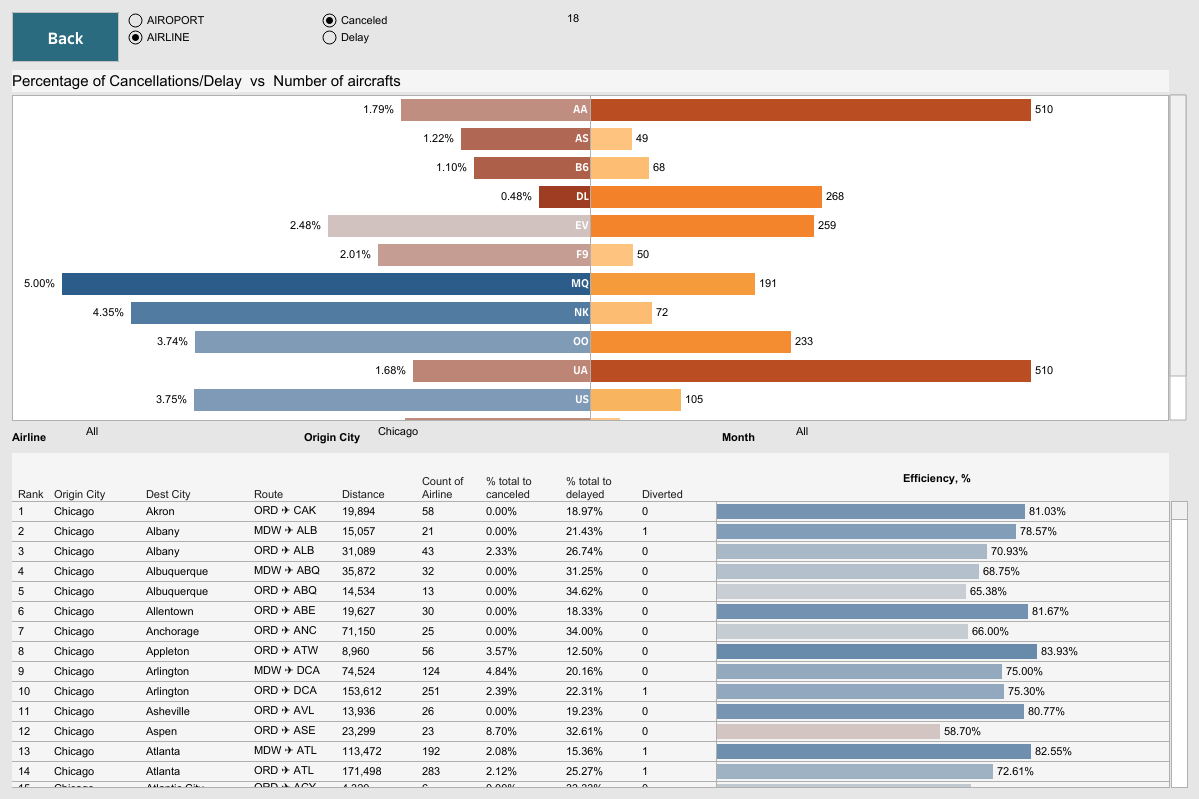

The page's visual inventory and layout, read from the dashboard file:
{"tool":"tableau","page":{"name":"Detail","canvas":[1200,800],"ordinal":0},"visuals":[{"type":"dashboard-object","box":[8,8,115,58]},{"type":"parameter","param":"[Parameters].[Parameter 2]","box":[123,8,194,58]},{"type":"parameter","param":"[Parameters].[Parameter 3]","box":[317,8,244,58]},{"type":"parameter","param":"[Parameters].[Parameter 4]","box":[561,8,235,58]},{"type":"blank","box":[796,8,396,58]},{"type":"worksheet","title":"Percentage of Cancellations vs. Number of aircrafts1","mark":"Automatic","rows":["Calculation_2411959112551825411"],"cols":["Calculation_503558773592018944","Calculation_1858297833444171778","Tail Number (flights_light.csv)"],"box":[8,66,1184,355]},{"type":"filter","title":"Details Table","param":"[federated.0401b3v0t1765k1da4qfj1s9hckf].[none:AIRLINE:nk]","box":[8,421,292,32]},{"type":"filter","title":"Details Table","param":"[federated.0401b3v0t1765k1da4qfj1s9hckf].[none:CITY (airports.csv1):nk]","box":[300,421,418,32]},{"type":"filter","title":"Details Table","param":"[federated.0401b3v0t1765k1da4qfj1s9hckf].[mn:Month (flights_light.csv):ok]","box":[718,421,442,32]},{"type":"blank","box":[1160,421,32,32]},{"type":"worksheet","title":"Details Table","mark":"Bar","rows":["CITY (airports.csv1)","CITY","Calculation_1858297833785237511","Distance (flights_light.csv)","Airline (flights_light.csv)","Calculation_2411959112576438278","Calculation_1858297833858146324","Diverted (flights_light.csv)"],"cols":["Calculation_1854920136498647040"],"box":[8,453,1184,339]},{"type":"text","box":[883,459,108,39]}]}

Visuals, with their boxes in screenshot pixels (x1, y1, x2, y2), scaled from the page's 1200x800 canvas onto the 1199x799 screenshot:
dashboard-object: box=[8, 8, 123, 66]
parameter: box=[123, 8, 317, 66]
parameter: box=[317, 8, 561, 66]
parameter: box=[561, 8, 795, 66]
blank: box=[795, 8, 1191, 66]
"Percentage of Cancellations vs. Number of aircrafts1" worksheet: box=[8, 66, 1191, 420]
"Details Table" filter: box=[8, 420, 300, 452]
"Details Table" filter: box=[300, 420, 717, 452]
"Details Table" filter: box=[717, 420, 1159, 452]
blank: box=[1159, 420, 1191, 452]
"Details Table" worksheet (Bar marks): box=[8, 452, 1191, 791]
text: box=[882, 458, 990, 497]
